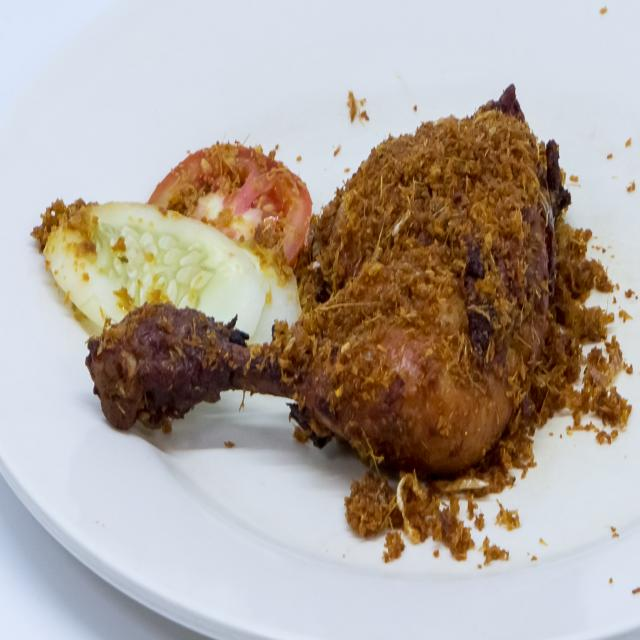Ayam-Goreng-Lengkuas: (62, 61, 575, 512)
